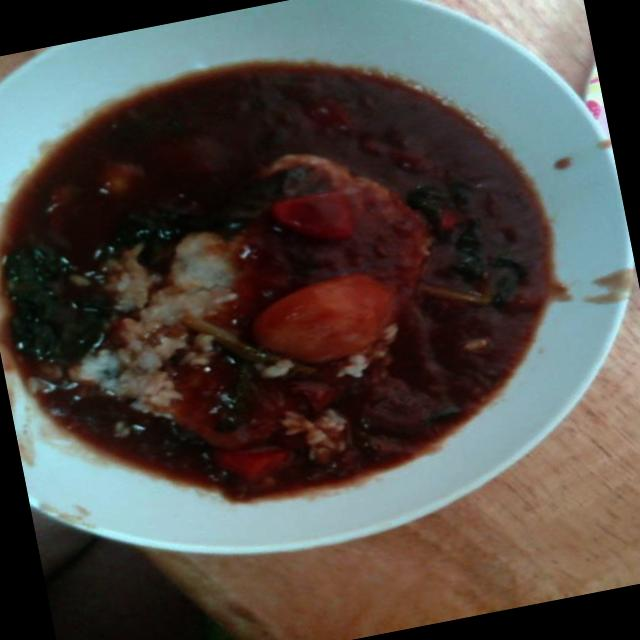Beef Curry: (0, 12, 597, 531)
